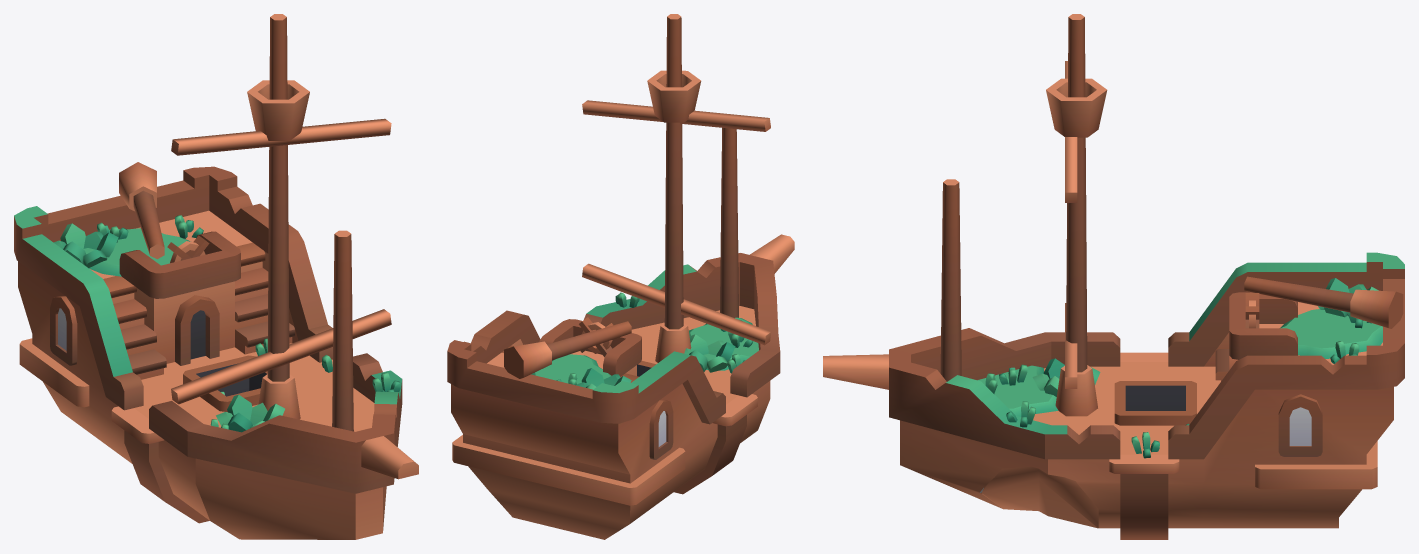
Rendered from shipwreck.glb.
3 views of the same model, side by side, from view 1: azimuth 30°, elevation 25°; view 2: azimuth 150°, elevation 25°; view 3: azimuth 270°, elevation 25° (orthographic). The views are drawn at different scales.
Visible parts, largest first — view 1: ship-wreck; view 2: ship-wreck; view 3: ship-wreck.
Boxes of the visible parts, x1,y1,x2,y2 form: ship-wreck: [14, 14, 418, 539]; ship-wreck: [447, 14, 794, 539]; ship-wreck: [823, 14, 1404, 539].
Size of the model in its own units: 4.8 by 9.96 by 10.6.
Materials: 1 (1 with a texture image).
